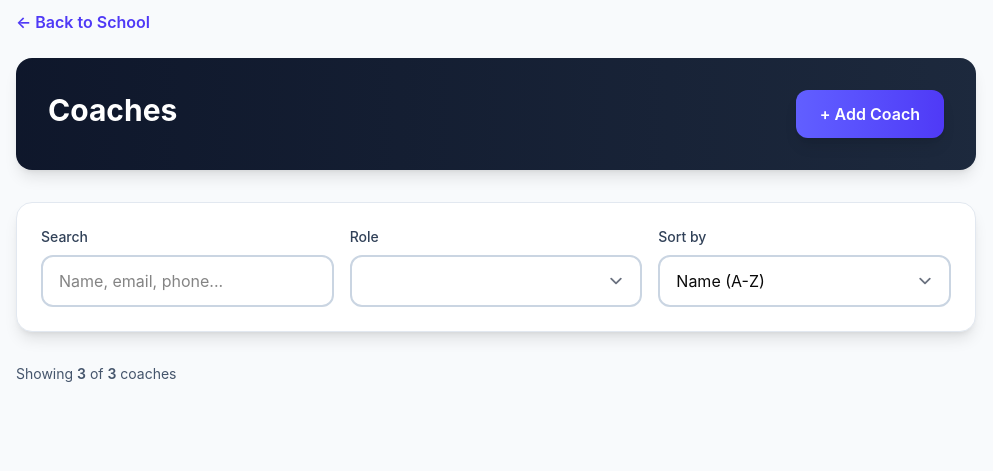
Test: pages/schools/[id]/coaches.vue › Results Summary › should show correct count for filtered results
This screenshot has width=993, height=471.
Type "Jane" into the field with id "search" at (187, 281), box x1=41 y1=255 x2=334 y2=307
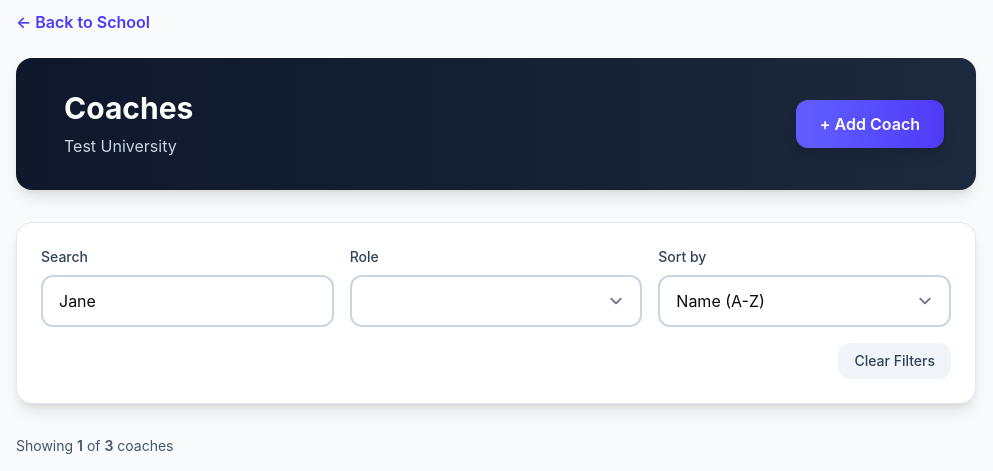
expect the text "Showing 1 of 3 coaches" is shown: met, box x1=16 y1=437 x2=174 y2=454
